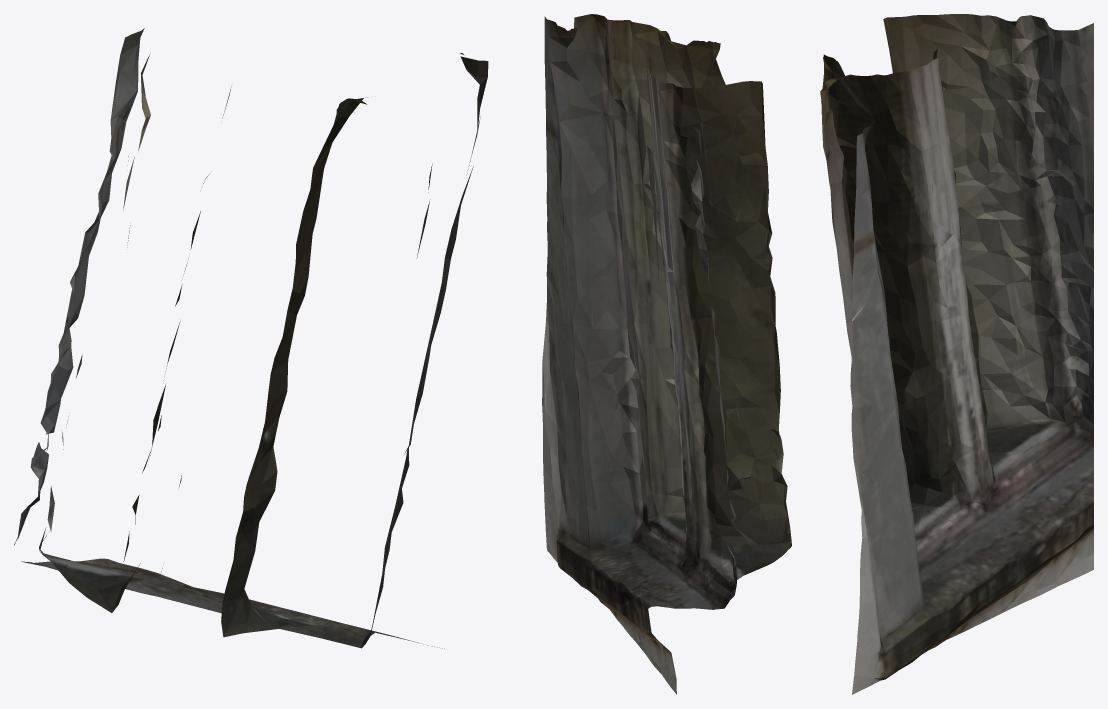
3 views of the same model, side by side, from view 1: azimuth 30°, elevation 25°; view 2: azimuth 150°, elevation 25°; view 3: azimuth 270°, elevation 25° (orthographic). The views are drawn at different scales.
Bounding box in the file's own units: 0.9848 × 1.67 × 0.7432.
3 materials, 3 textured.
